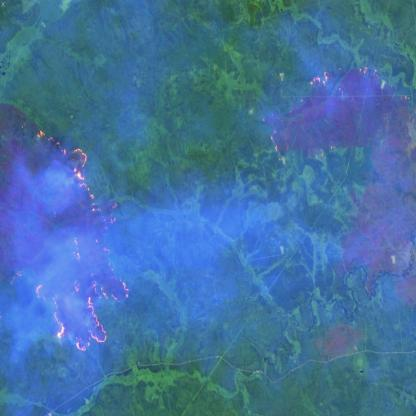fire: (27, 121, 135, 357)
